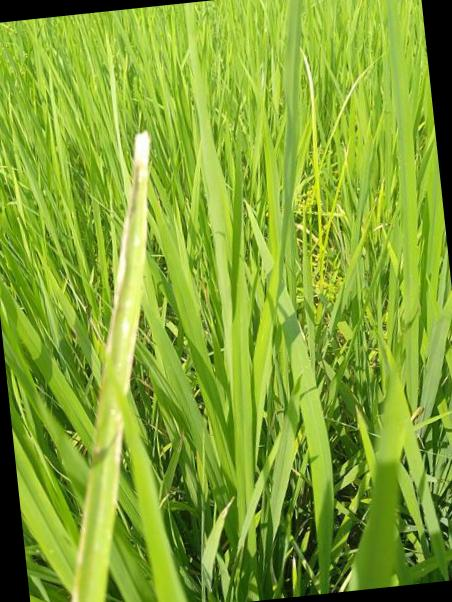Leaf Blight: (91, 131, 151, 468)
